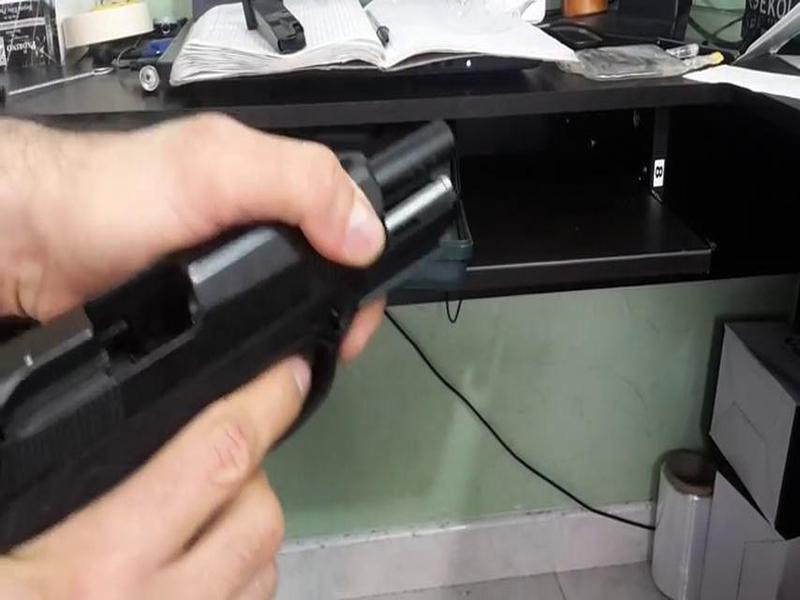Pistola: (1, 113, 474, 547)
